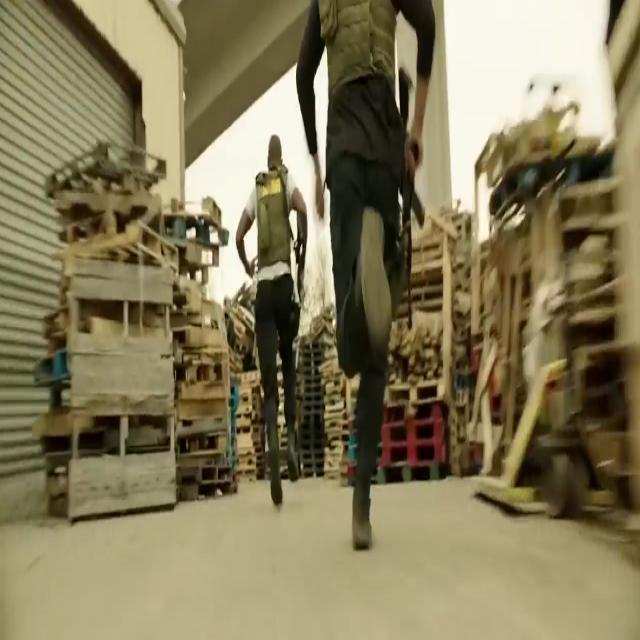Weapon: (390, 25, 423, 359), (285, 220, 315, 318)
